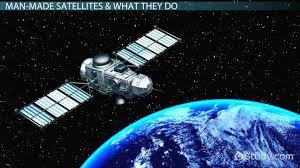antenna: (80, 57, 94, 81)
body: (84, 52, 157, 101)
solar: (14, 80, 96, 131), (113, 24, 184, 69)
